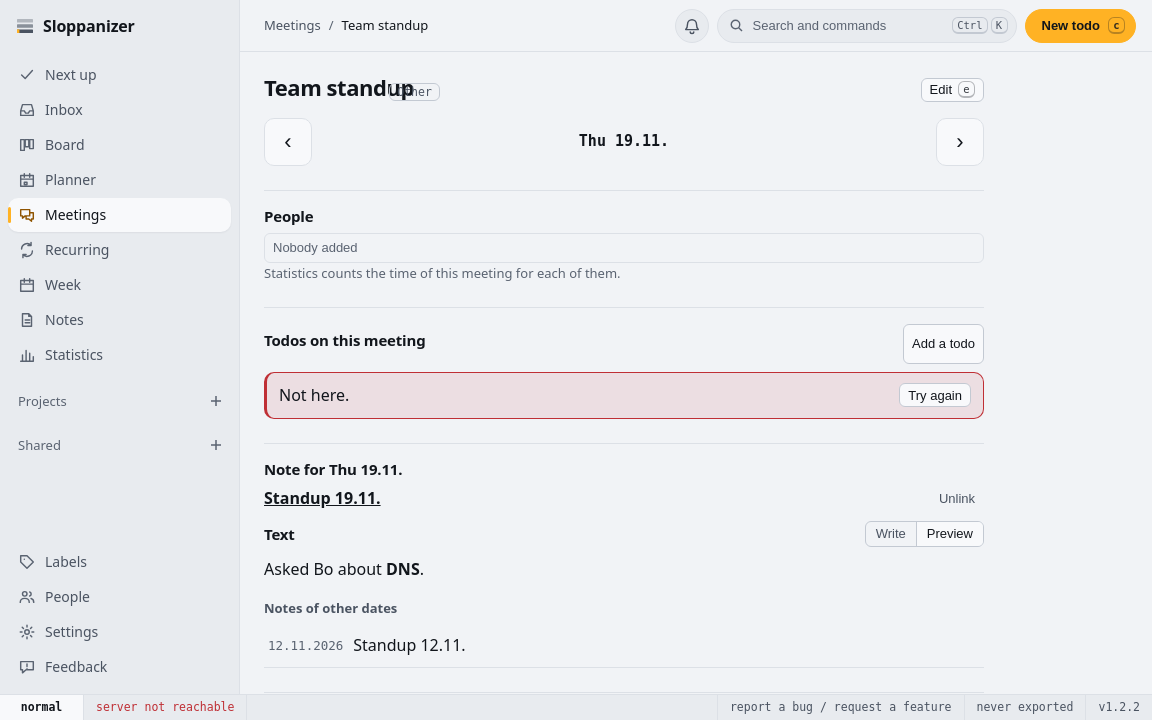
it: note per meeting date › shows the date's note, unlinks it, and lists the other dates' notes
The width and height of the screenshot is (1152, 720).
Check: the text "DNS" is shown, box [386, 558, 420, 580]
Click the button "Unlink" at (957, 498), box [930, 486, 984, 510]
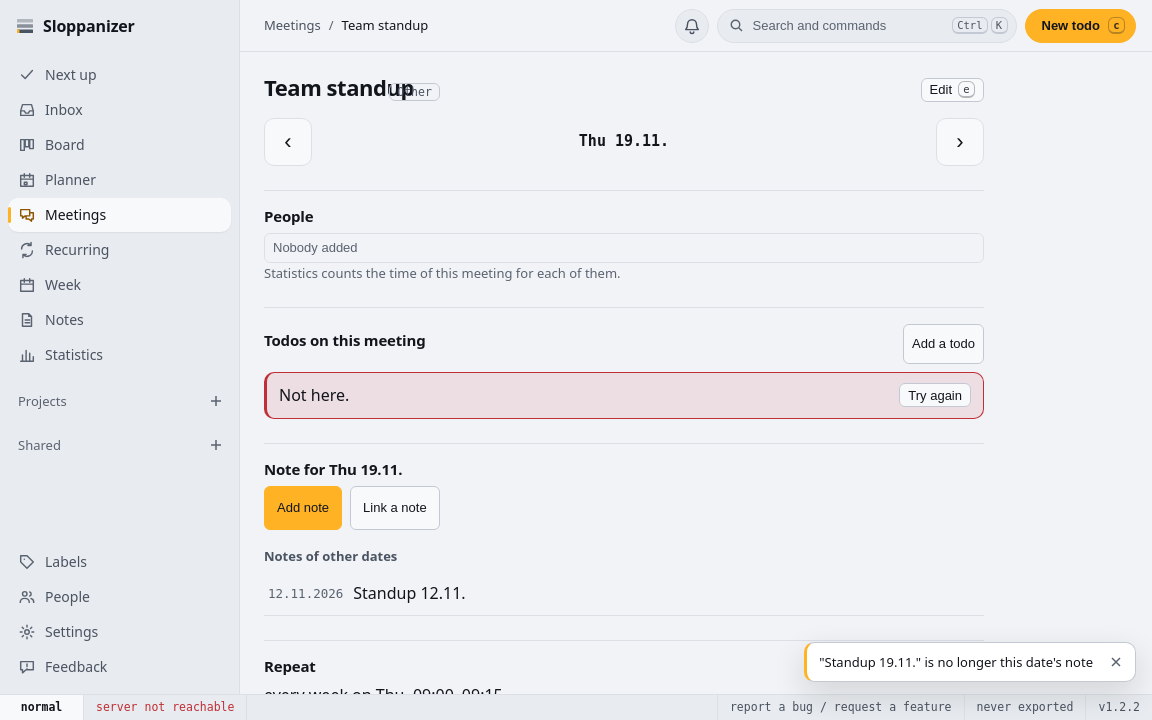
Check: the button "Add note" is shown, box [264, 486, 342, 530]
Click the button "12.11.2026 Standup 12.11." at (306, 593), box [264, 572, 984, 616]
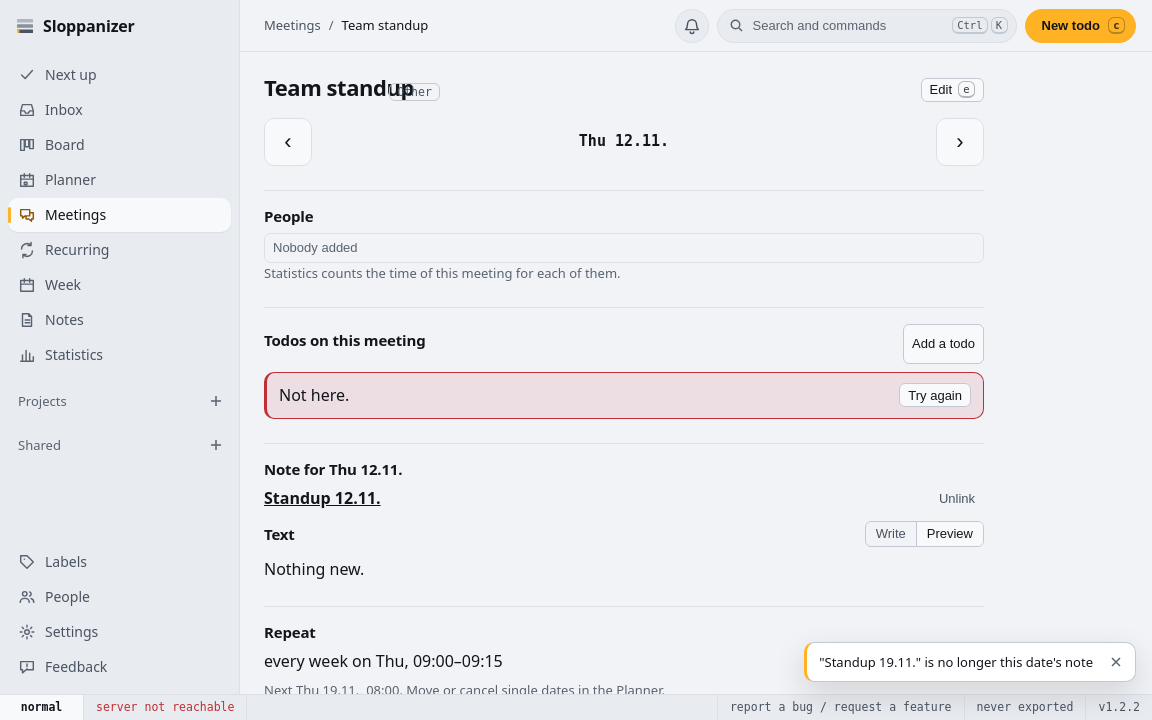
Check: the text "Nothing new." is shown, box [264, 558, 364, 580]
